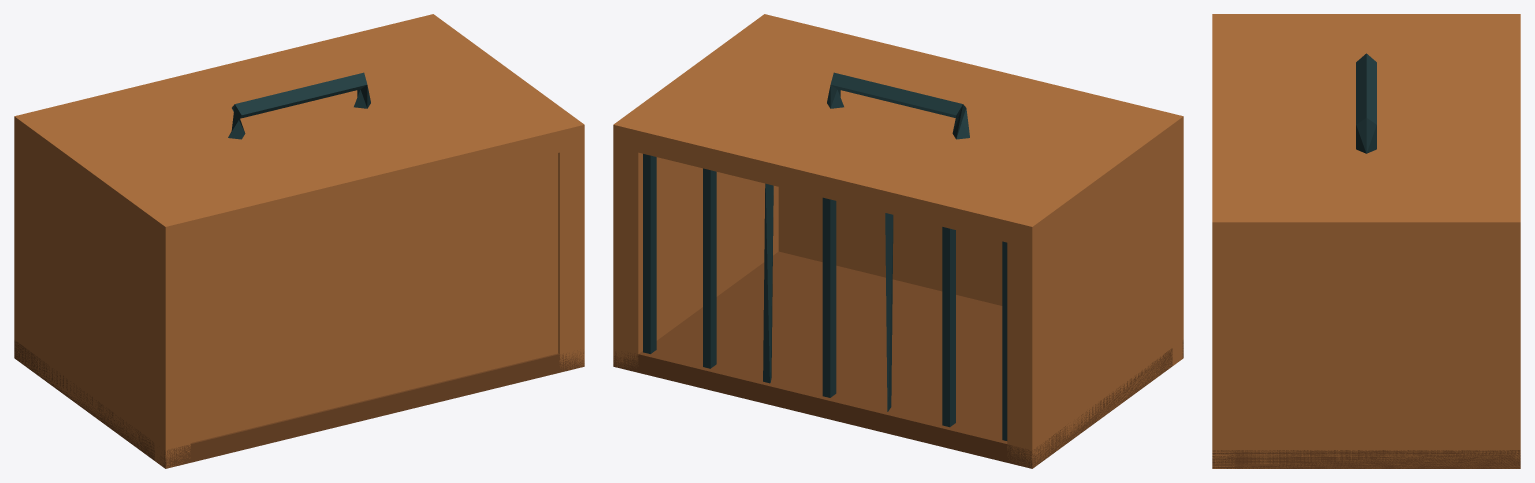
File: transport_crate_S.fbx
The picture shows the model from 3 angles, left to right: view 1: azimuth 30°, elevation 25°; view 2: azimuth 150°, elevation 25°; view 3: azimuth 270°, elevation 25°; orthographic projection.
Visible parts, largest first — view 1: transport_crate_S; view 2: transport_crate_S; view 3: transport_crate_S.
Boxes of the visible parts, x1=… form: transport_crate_S: x1=14, y1=14, x2=584, y2=468; transport_crate_S: x1=613, y1=14, x2=1183, y2=468; transport_crate_S: x1=1212, y1=14, x2=1520, y2=468.
Bounding box in the file's own units: 0.8 × 0.5 × 0.5.
